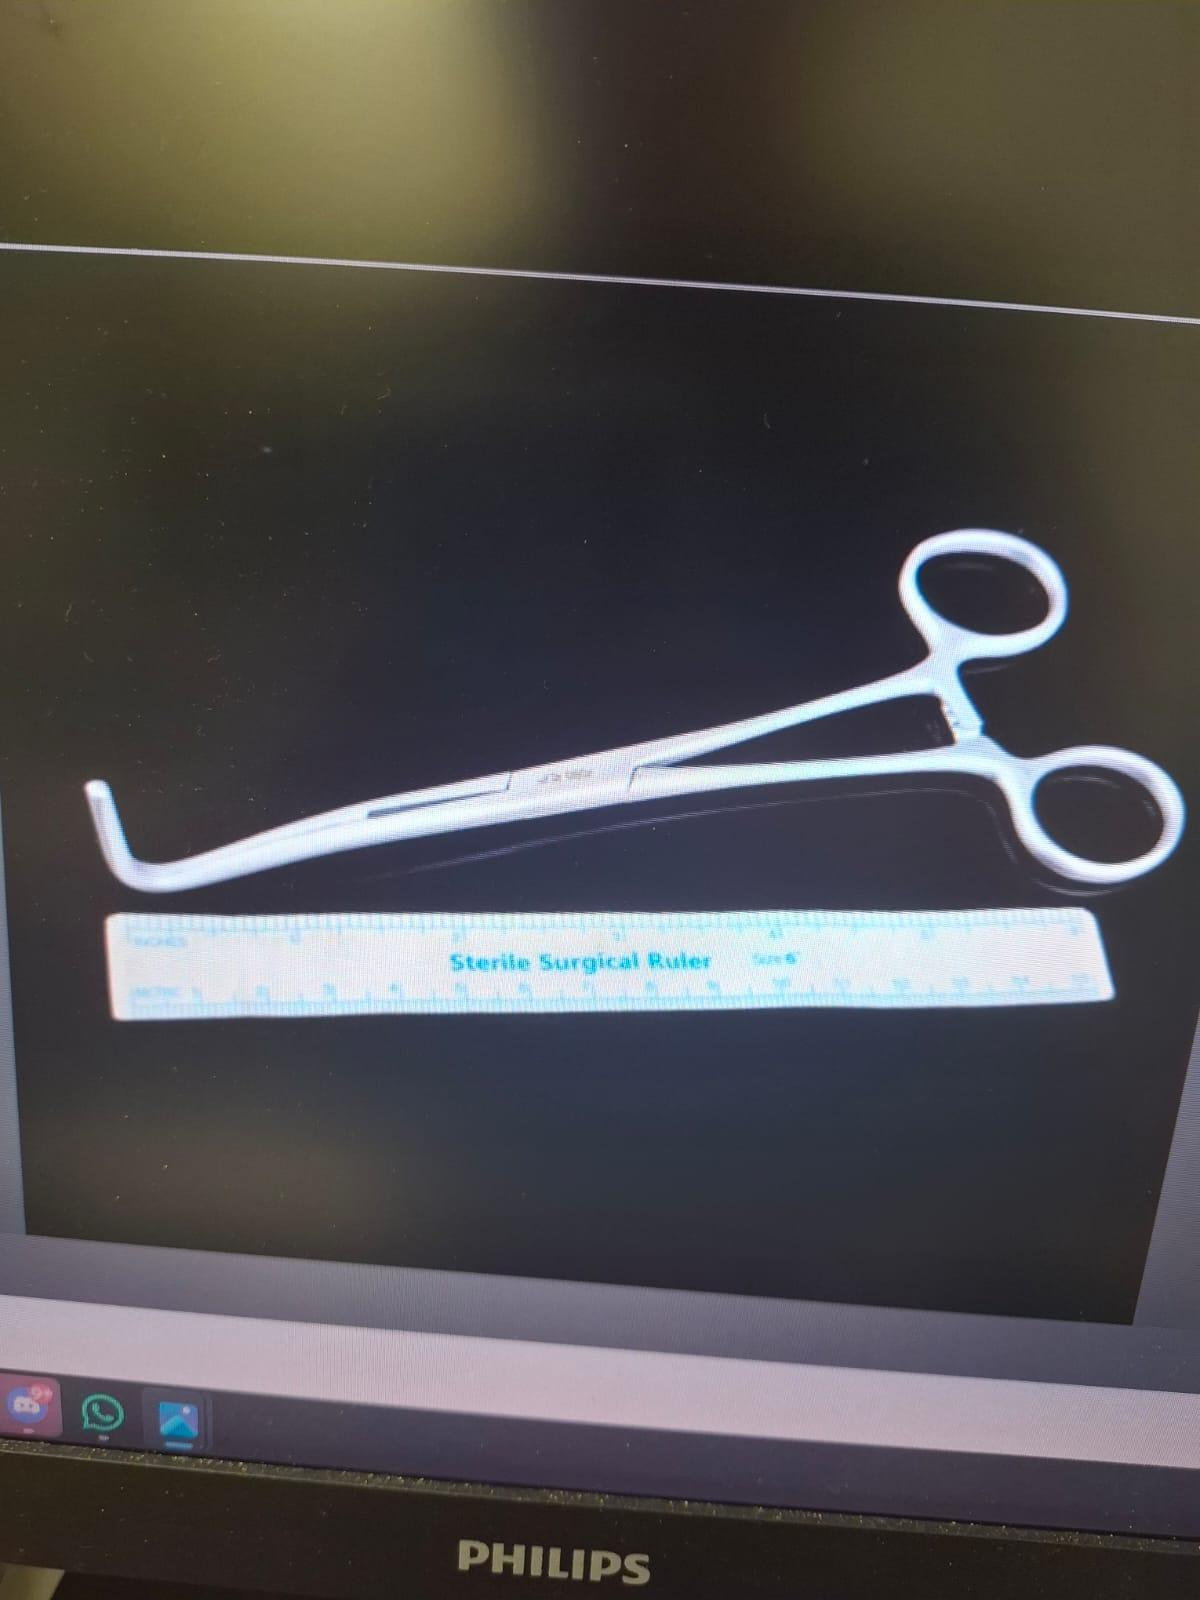Rectangle Cholecystectomy Forceps: (70, 528, 1200, 928)
